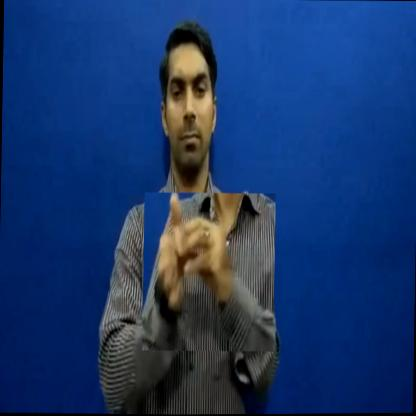Expensive: (142, 191, 276, 352)
